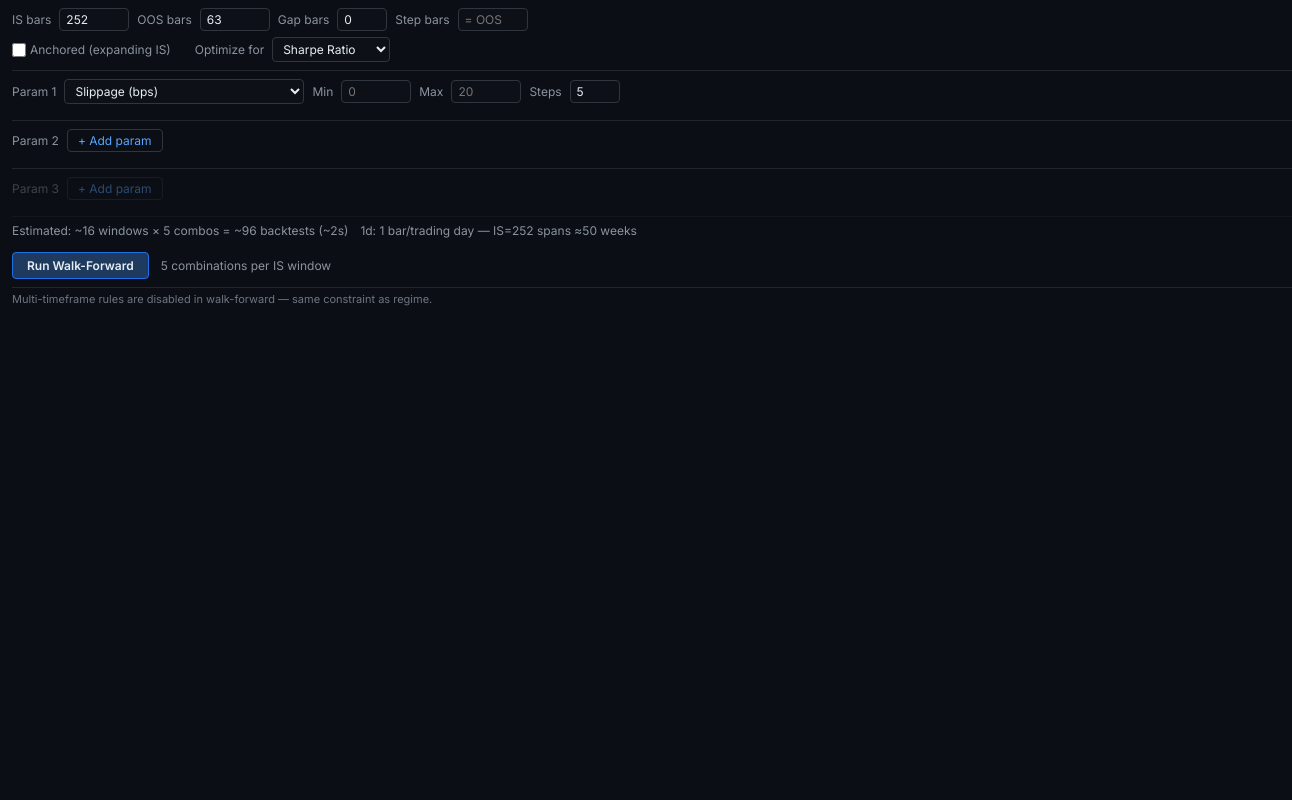
Test case: WalkForwardPanel › interpretation callout shows healthy text for wfe >= 0.7
Click the button "Run Walk-Forward". click: (80, 266)
box: left=12, top=252, right=149, bottom=279
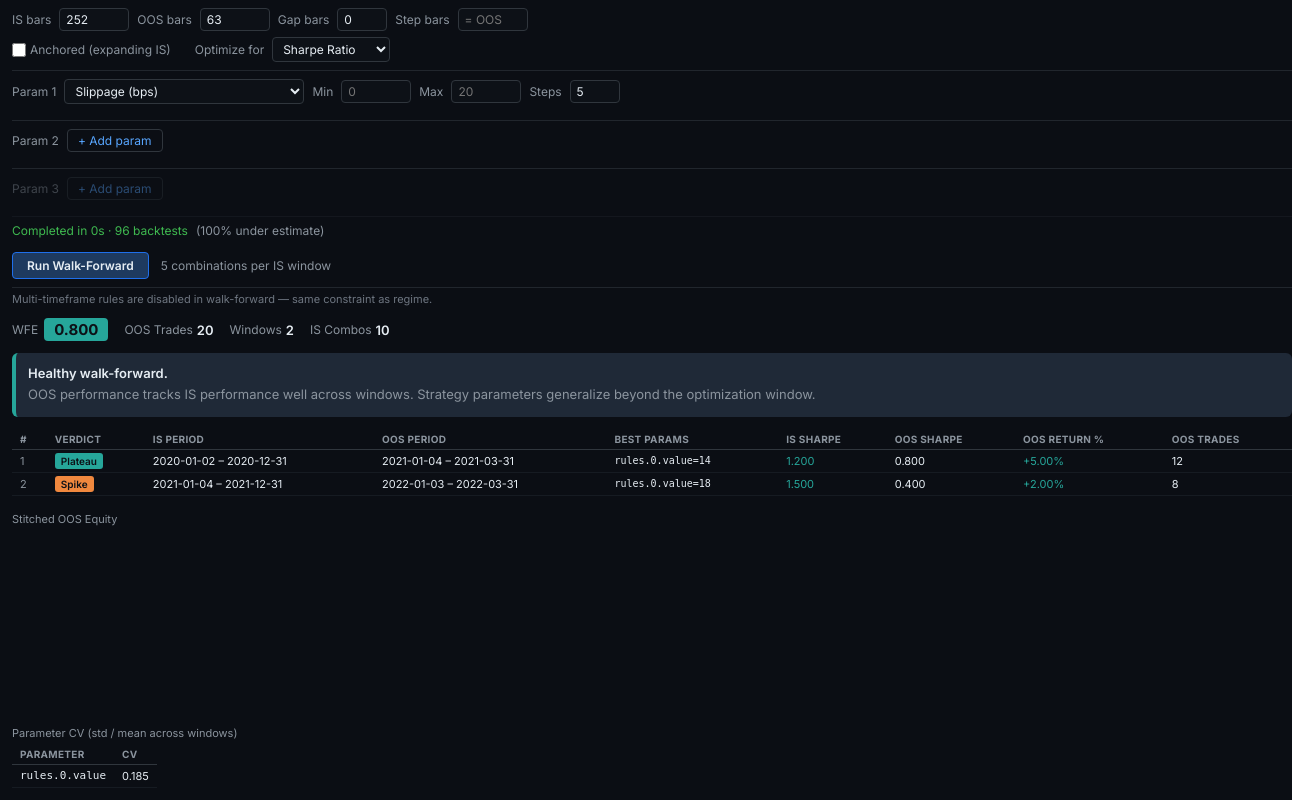
Expected: the text "WFE" is shown, left=12, top=322, right=38, bottom=337
Expected: the text "Healthy walk-forward." is shown, left=28, top=365, right=168, bottom=381
